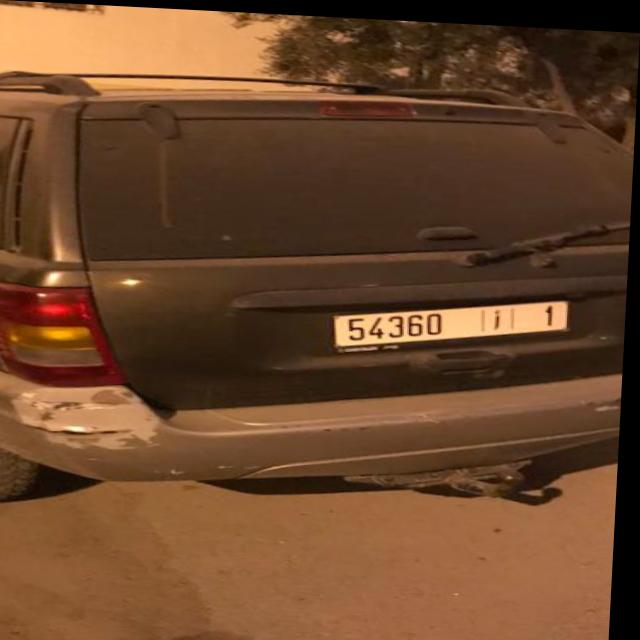License-Plate: (338, 294, 571, 343)
